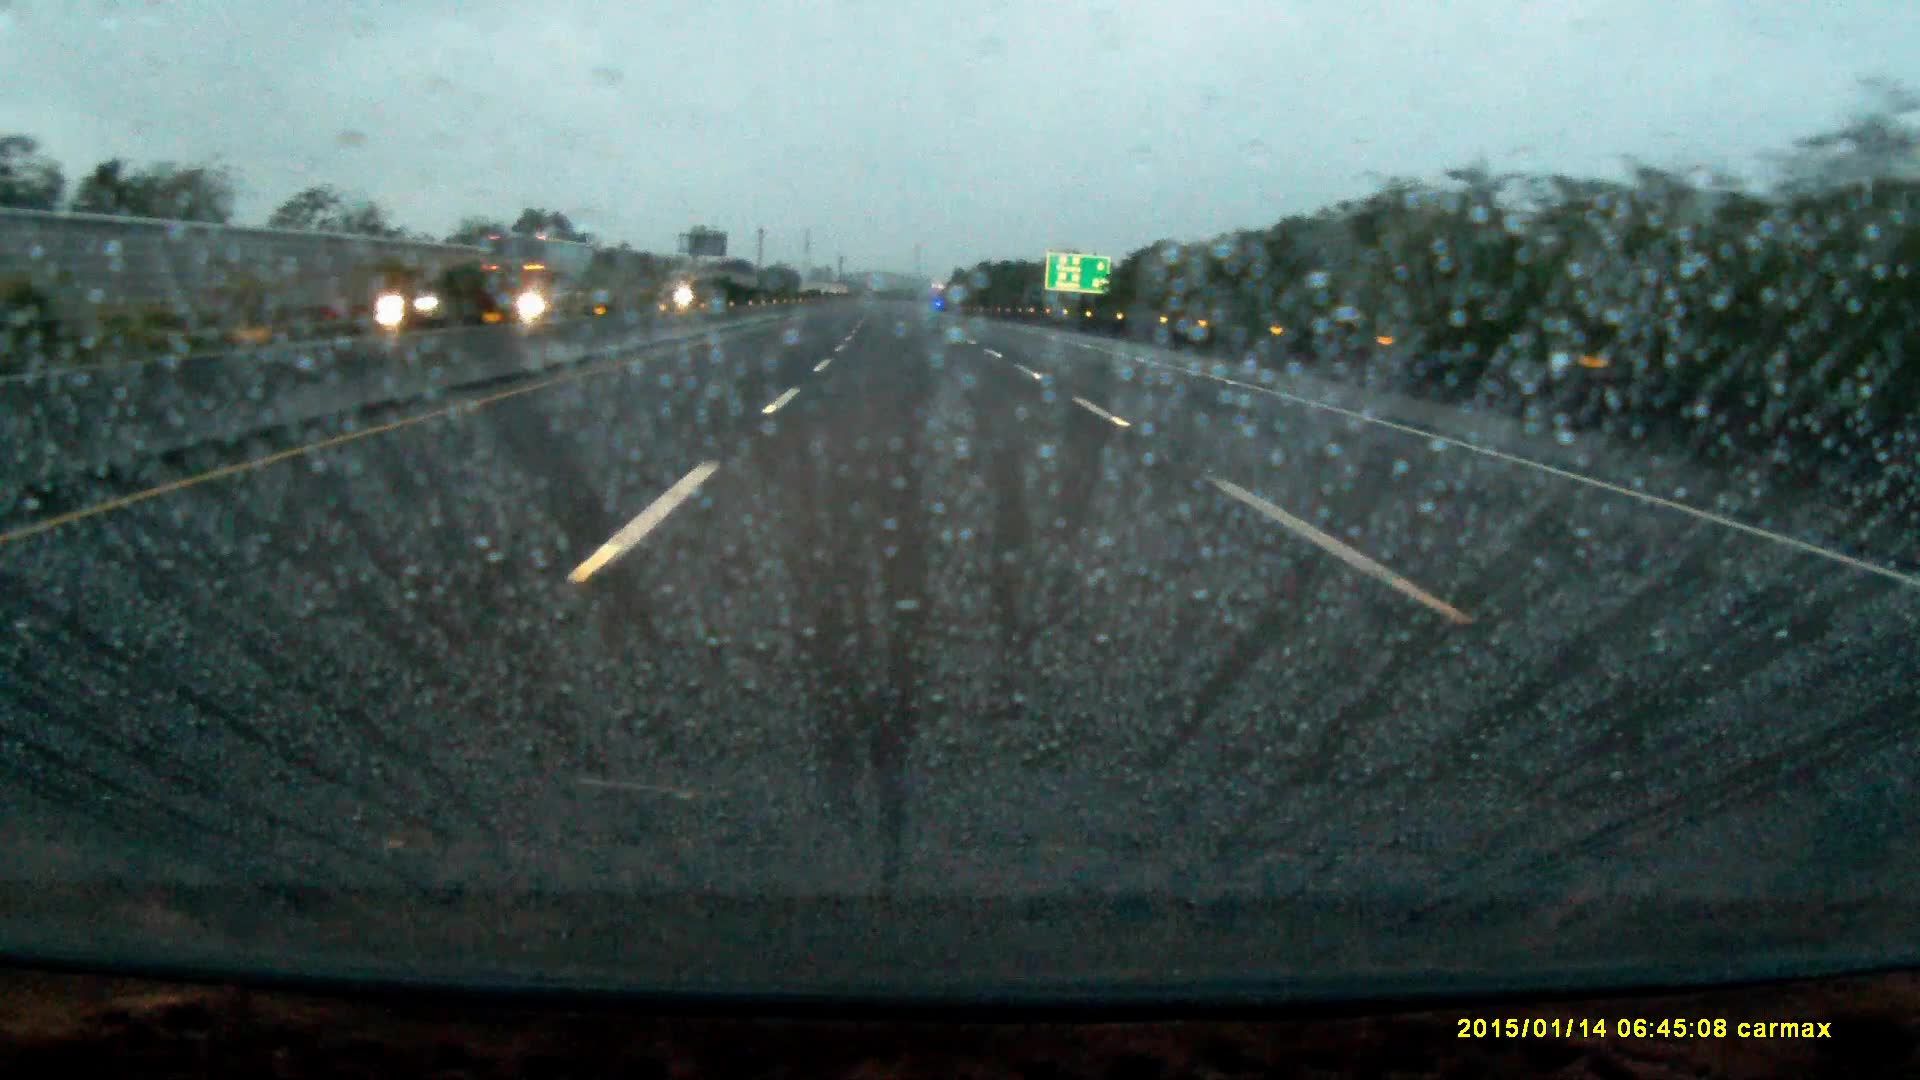vehicle: (483, 236, 595, 320), (376, 282, 465, 331)
